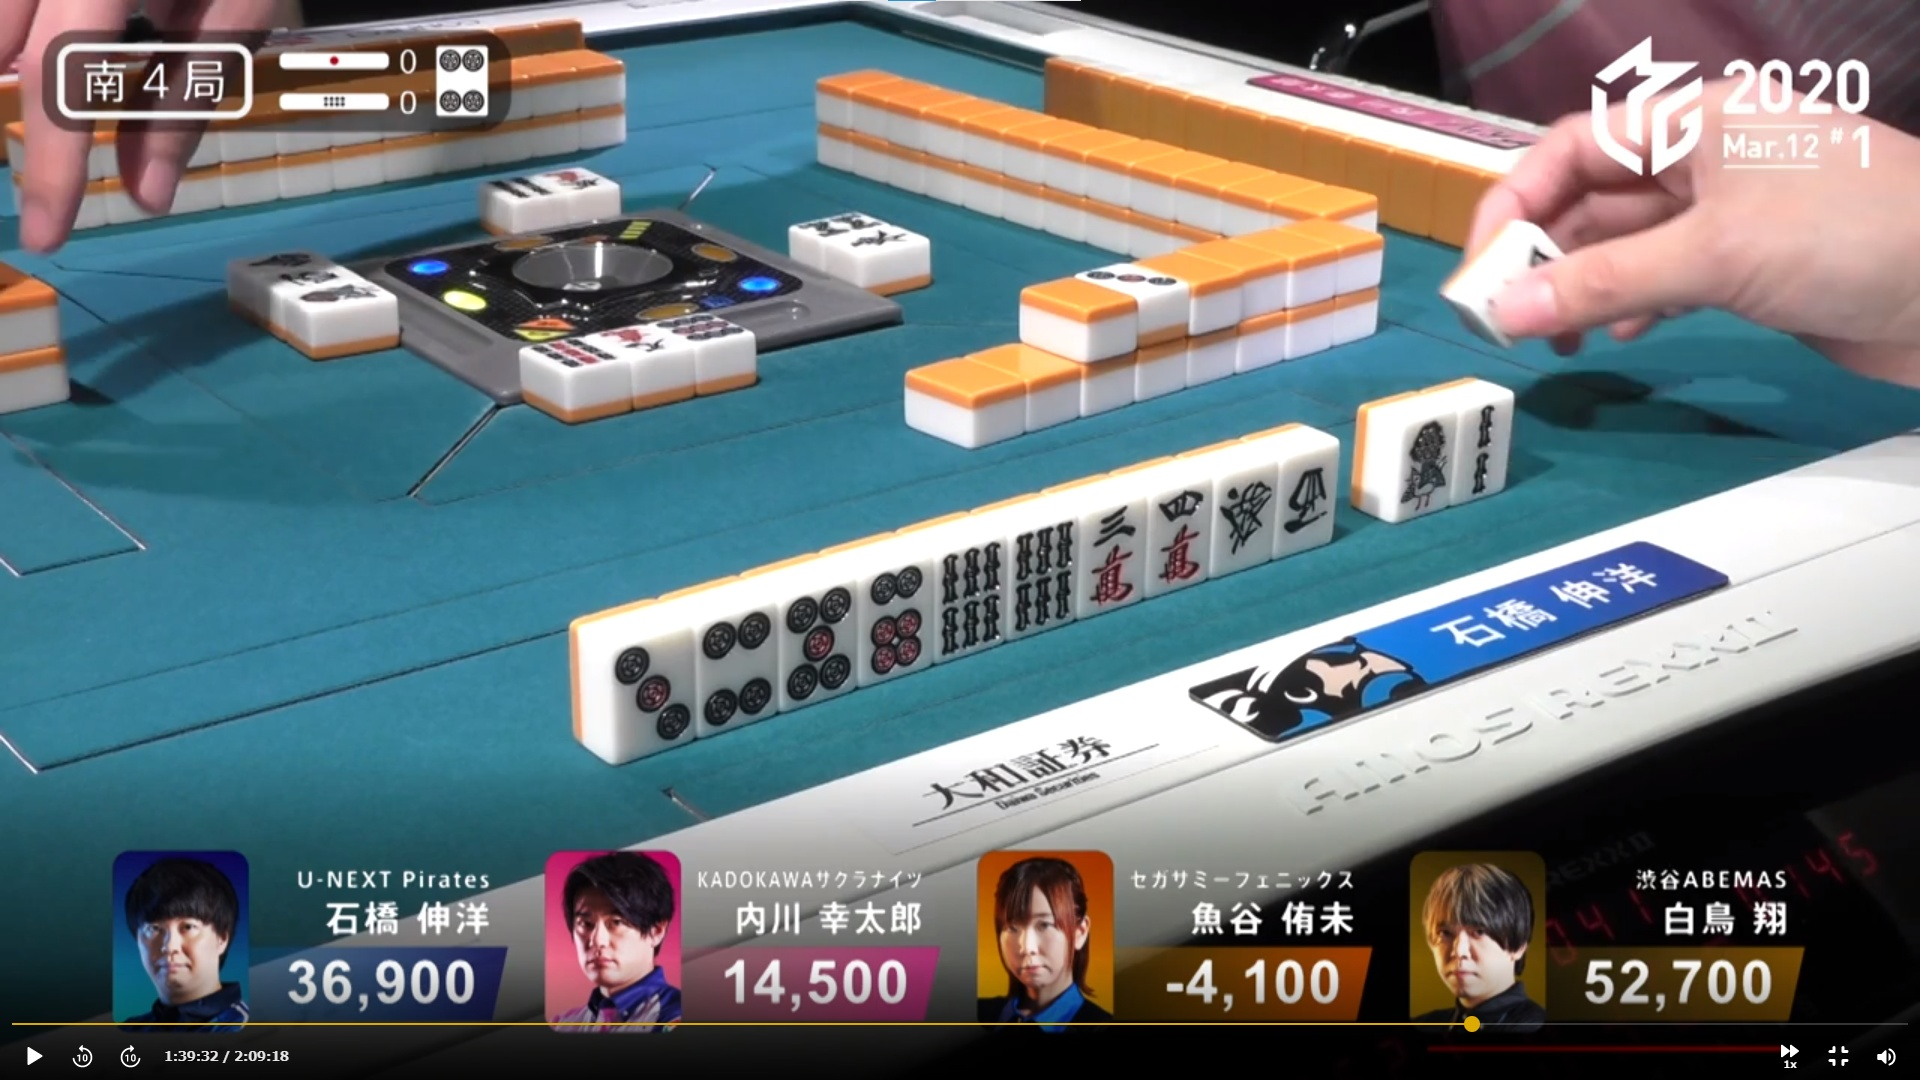1s: (1374, 394, 1445, 517)
2s: (1453, 375, 1505, 502)
3m: (1075, 473, 1138, 609)
3p: (593, 604, 687, 750)
4m: (1141, 454, 1201, 593)
4p: (691, 575, 778, 727)
5p: (778, 554, 849, 700)
6p: (851, 530, 920, 680)
6s: (928, 512, 1004, 657), (1009, 491, 1071, 636)
hand_nan_4: (51, 32, 258, 121)
hatsu: (1213, 440, 1274, 575)
round_0: (268, 87, 415, 115)
sha: (1279, 419, 1329, 553)
team_pirates: (1185, 620, 1447, 742)
